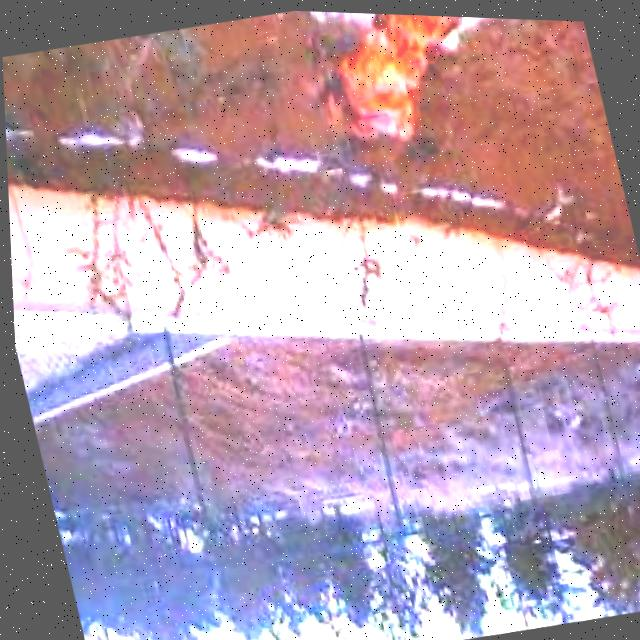Fire: (307, 9, 495, 149)
